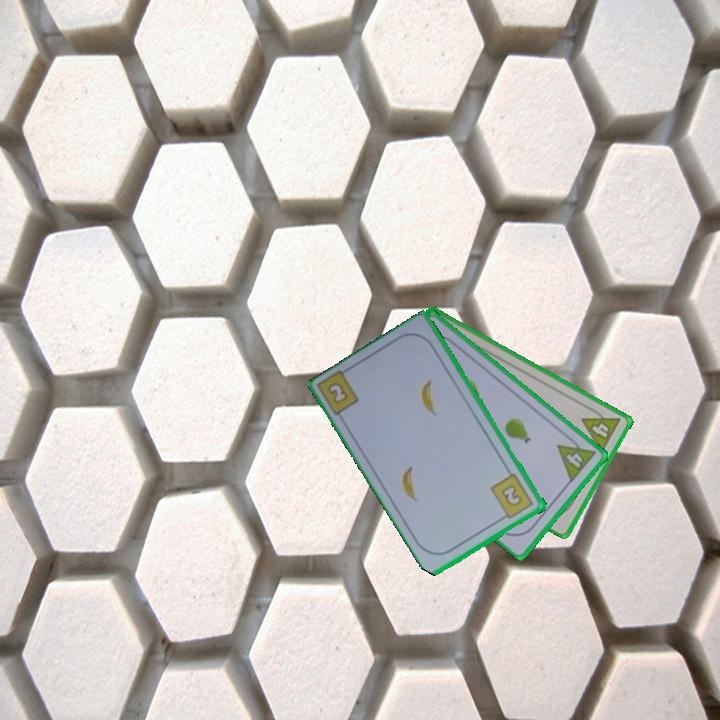2b: (487, 470, 537, 523), (324, 379, 352, 407)
4p: (578, 403, 624, 456), (554, 431, 599, 485)
